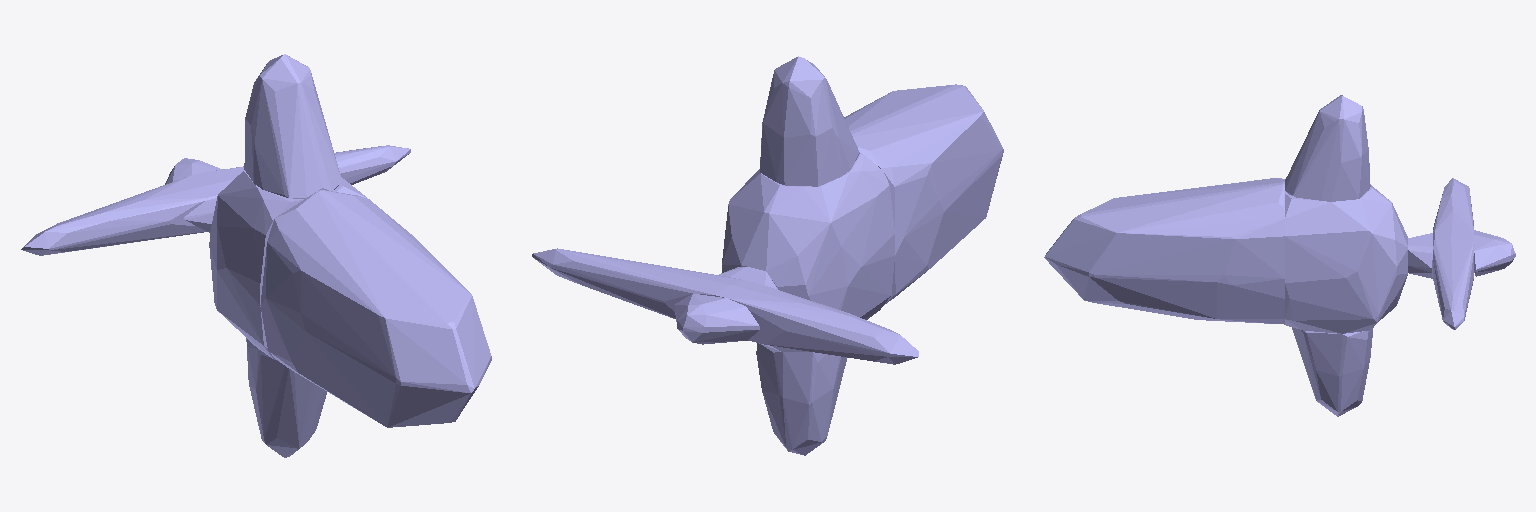
URDF robot description (blob141):
<robot name="blob141">
  <link name="random_obj_141">
    <contact>
      <lateral_friction value="1.0"/>
      <rolling_friction value="0.0"/>
      <inertia_scaling value="3.0"/>
      <contact_cfm value="0.0"/>
      <contact_erp value="1.0"/>
    </contact>
    <inertial>
      <origin rpy="0 0 0" xyz="0 0 0"/>
      <mass value="0.1"/>
      <inertia ixx="1" ixy="0" ixz="0" iyy="1" iyz="0" izz="0"/>
    </inertial>
    <visual>
      <origin rpy="0 0 0" xyz="0 0 0"/>
      <geometry>
        <mesh filename="141.obj" scale="0.015 0.015 0.015"/>
      </geometry>
      <material name="blockmat">
        <color rgba="0.75 0.74 0.97 1"/>
      </material>
    </visual>
    <collision>
      <origin rpy="0 0 0" xyz="0 0 0"/>
      <geometry>
        <mesh filename="141.obj" scale="0.015 0.015 0.015"/>
      </geometry>
    </collision>
  </link>
</robot>

--- What the picture shows (computed from the rendered views, not written in the file) ---
Views: 3 orthographic renders of the robot side by side, from view 1: azimuth 30°, elevation 25°; view 2: azimuth 150°, elevation 25°; view 3: azimuth 270°, elevation 25°.
Robot: blob141 — 1 links, 0 joints (none); root link random_obj_141; default pose: all joints at 0.
Links seen in each view (by area): view 1: random_obj_141; view 2: random_obj_141; view 3: random_obj_141.
Boxes of the visible links, bbox=[...] form: random_obj_141: bbox=[21, 54, 491, 457]; random_obj_141: bbox=[532, 56, 1003, 455]; random_obj_141: bbox=[1044, 95, 1515, 416].
Bounding box of the posed robot: 0.0914 × 0.1199 × 0.0902 m (x, y, z).
Meshes: 1 distinct files referenced, 1 mesh visuals loaded (1 OBJ).